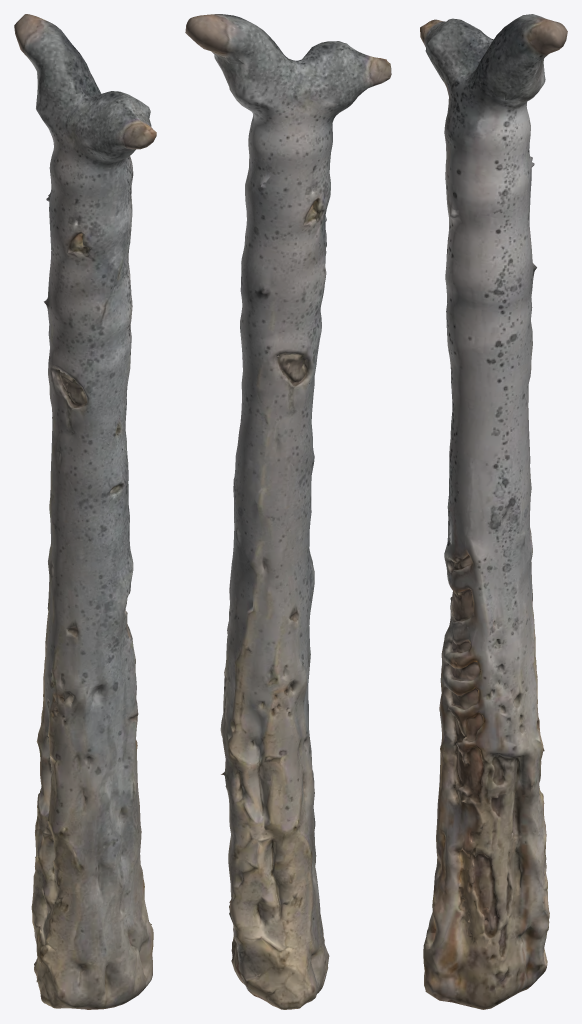
The model's file is dead_quiver_trunk.glb.
The picture shows the model from 3 angles, left to right: view 1: azimuth 90°, elevation 25°; view 2: azimuth 150°, elevation 25°; view 3: azimuth 270°, elevation 25°; orthographic projection. The views are drawn at different scales.
Visible parts, largest first — view 1: dead_quiver_trunk_LOD0; view 2: dead_quiver_trunk_LOD0; view 3: dead_quiver_trunk_LOD0.
Boxes of the visible parts, left/top/right/bottom form: dead_quiver_trunk_LOD0: left=14, top=14, right=156, bottom=1009; dead_quiver_trunk_LOD0: left=185, top=14, right=391, bottom=1009; dead_quiver_trunk_LOD0: left=420, top=14, right=567, bottom=1009.
Size of the model in its own units: 0.3065 by 1.99 by 0.268.
1 material, 1 textured.
